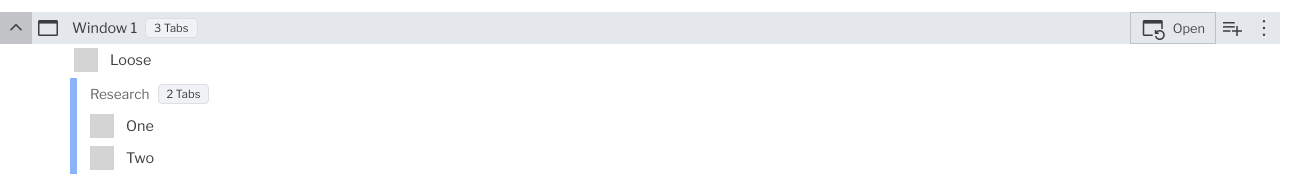
Test case: the group title renames, and Open opens › a title click edits, and creates no tab
The width and height of the screenshot is (1292, 191).
Click the button "Research" at (118, 94), box [86,78,150,110]
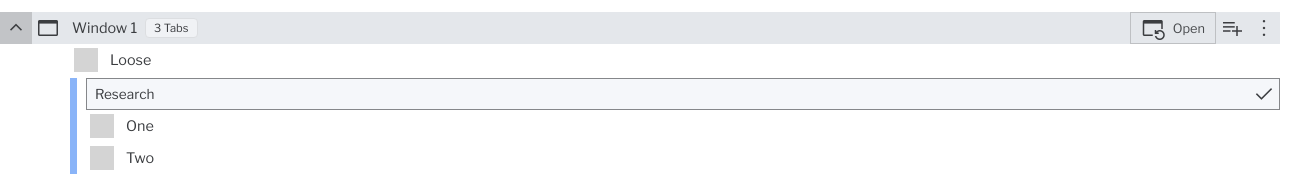
Result: the field named "Rename group: Research" holds "Research" at [86,78,1280,110]
